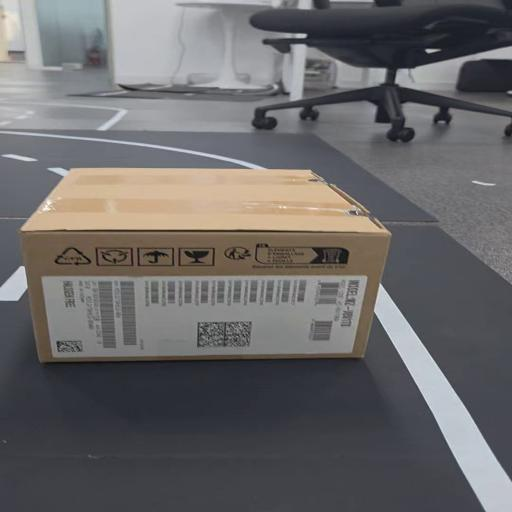Box: (21, 163, 390, 370)
